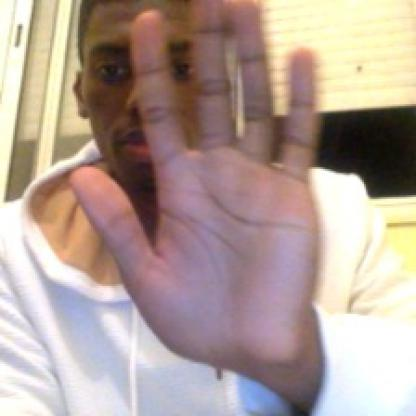TURN RIGHT: (61, 6, 347, 411)
